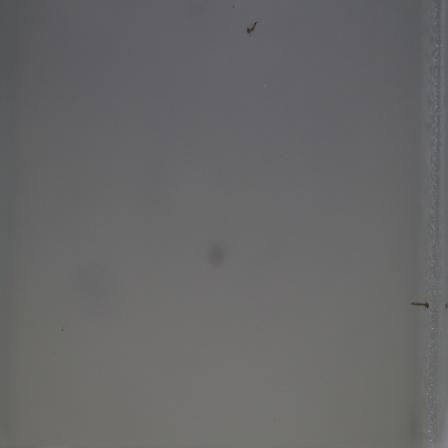Jentik-Nyamuk: (407, 296, 435, 313), (242, 19, 263, 37)
